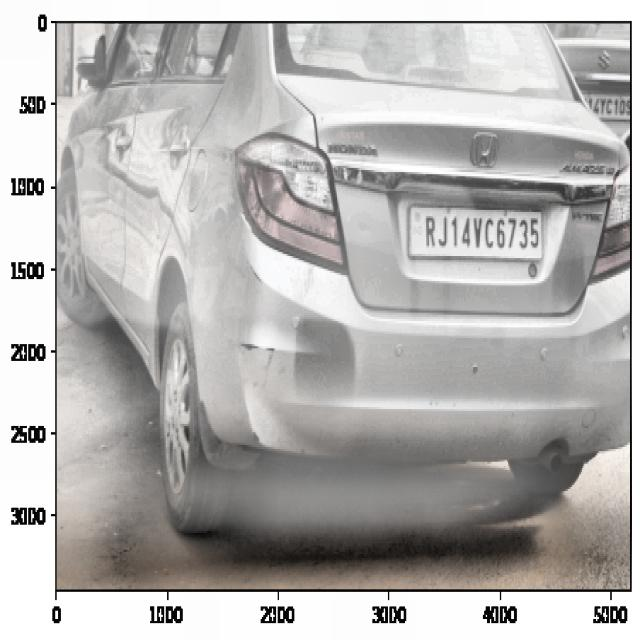license_plate: (419, 205, 544, 264)
